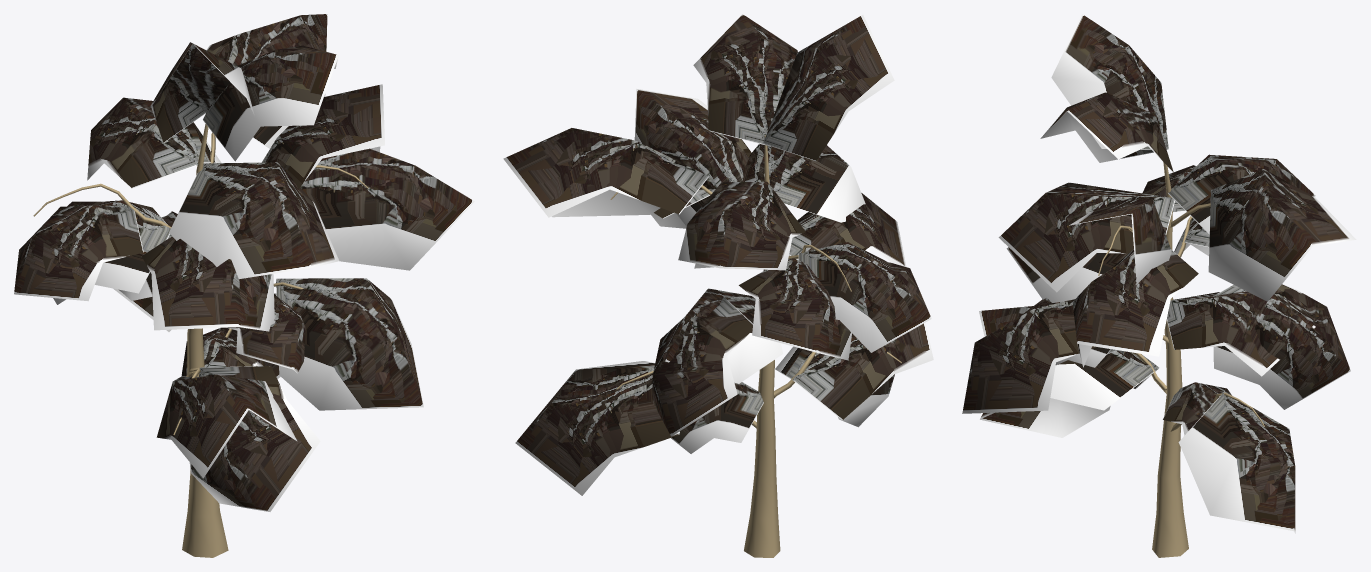
Rendered from Lava_Wood_mini_01.FBX.
3 views of the same model, side by side, from view 1: azimuth 30°, elevation 25°; view 2: azimuth 150°, elevation 25°; view 3: azimuth 270°, elevation 25° (orthographic). The views are drawn at different scales.
Parts seen in each view (by area): view 1: Lava_Wood_mini_01; view 2: Lava_Wood_mini_01; view 3: Lava_Wood_mini_01.
Boxes of the visible parts, box(x1,y1,x2,y2) form: Lava_Wood_mini_01: box(14, 14, 474, 557); Lava_Wood_mini_01: box(503, 14, 933, 557); Lava_Wood_mini_01: box(962, 14, 1356, 557).
Size of the model in its own units: 92.67 by 121 by 85.21.
Materials: 2 (1 with a texture image).
